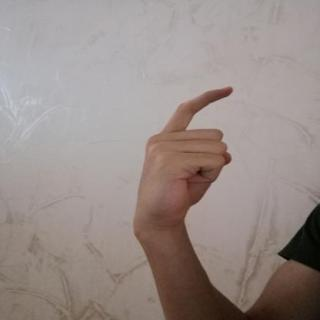RAA: (123, 79, 244, 237)
